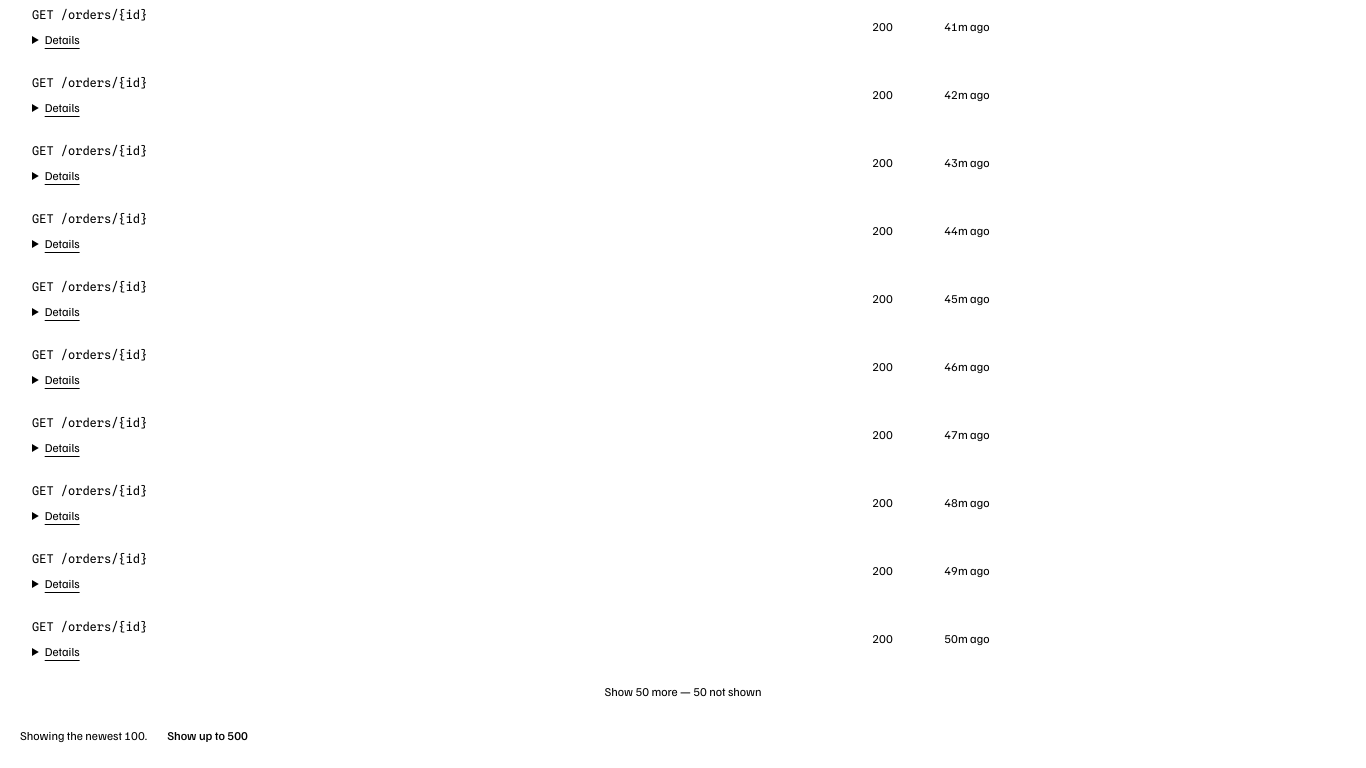
Test: says when an older page reaches the start of the window
This screenshot has width=1366, height=768.
(page scrolled)
Click the button "Show up to 500": click(207, 736) left=159, top=724, right=256, bottom=748
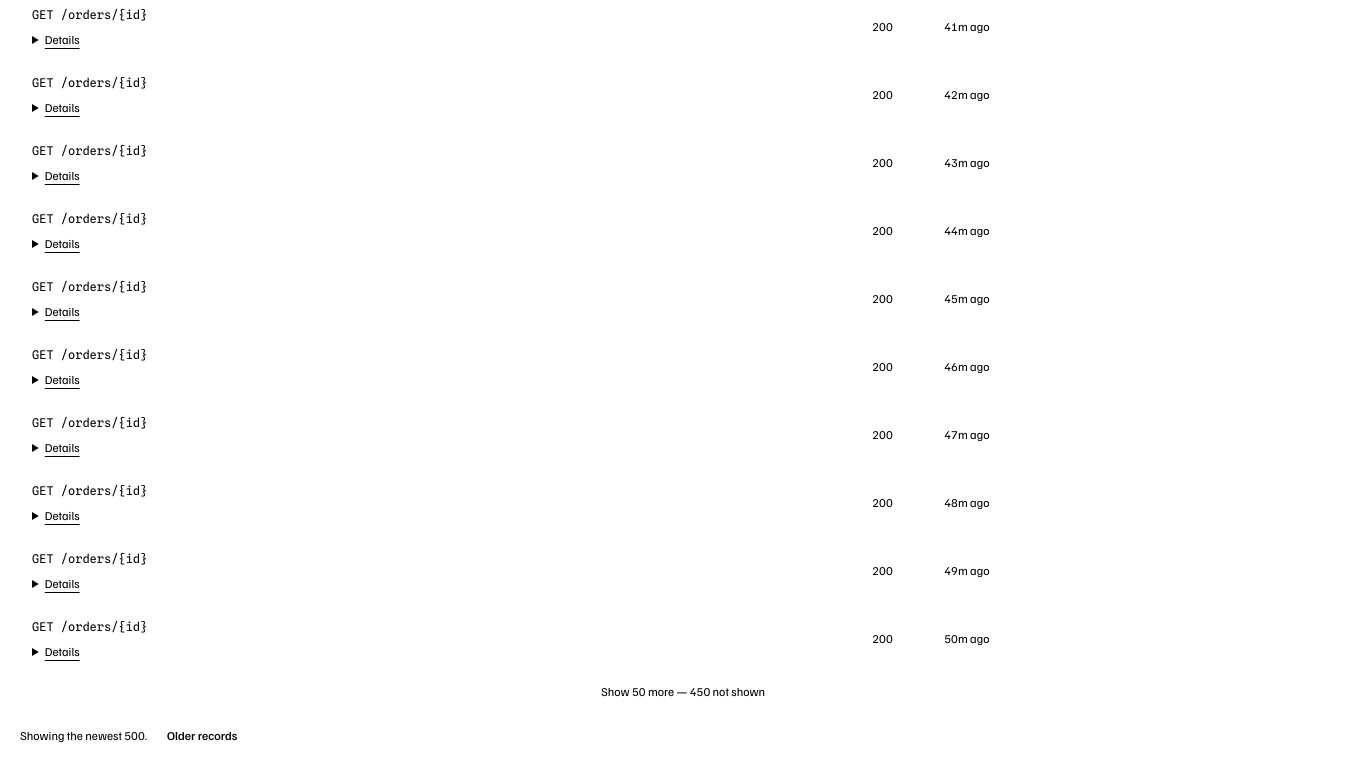
Click the button "Older records": click(202, 736) left=159, top=724, right=245, bottom=748
(page scrolled)
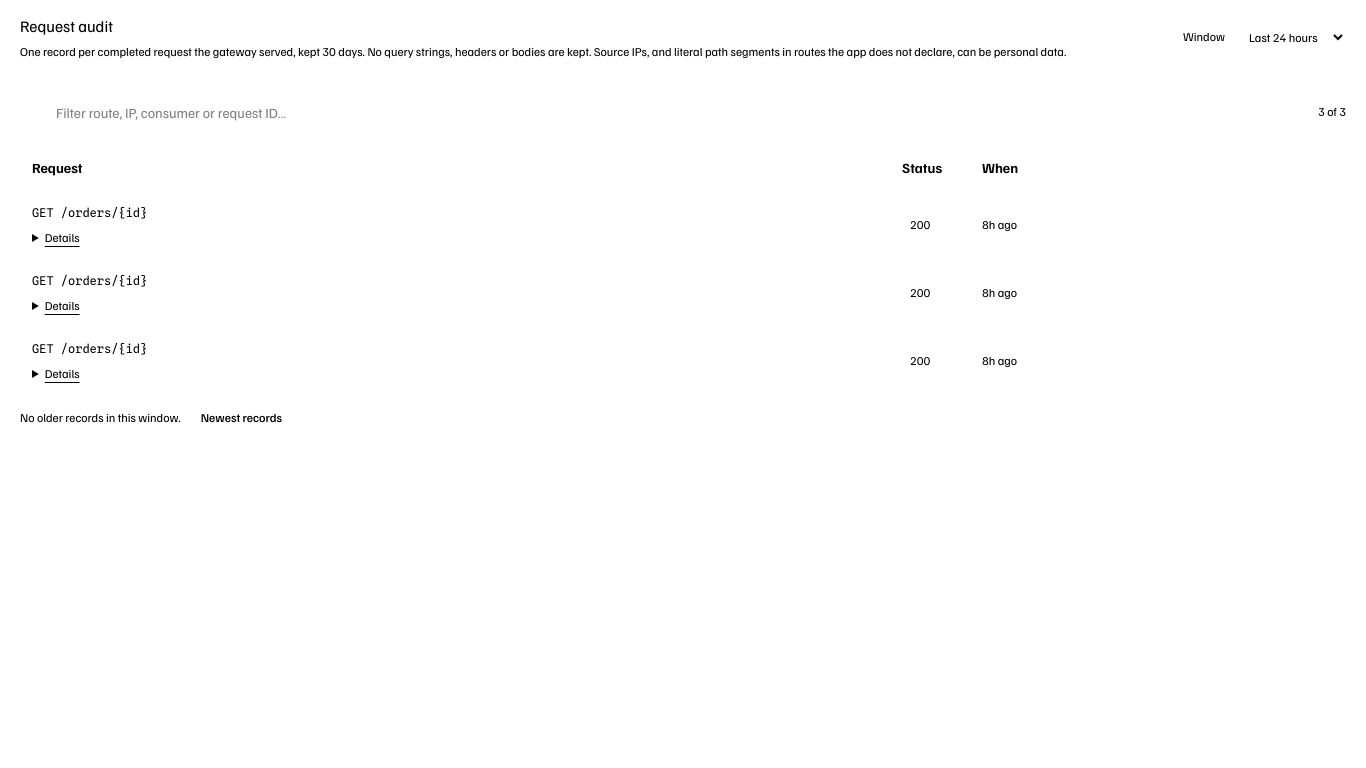
Check: the text "No older records in this window." is shown, box left=20, top=410, right=181, bottom=426
Check: the button "Newest records" is shown, box left=193, top=406, right=290, bottom=430
